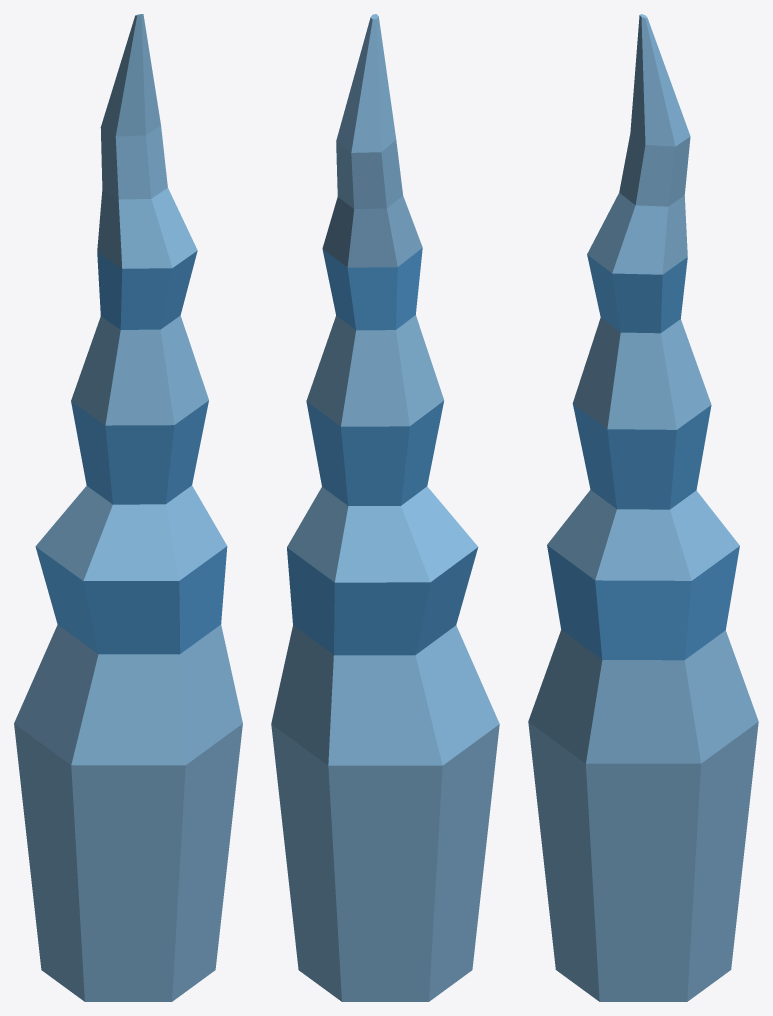
The model's file is eiszapfen.fbx.
3 views of the same model, side by side, from view 1: azimuth 30°, elevation 25°; view 2: azimuth 150°, elevation 25°; view 3: azimuth 270°, elevation 25° (orthographic).
Visible parts, largest first — view 1: Cylinder.001; view 2: Cylinder.001; view 3: Cylinder.001.
Part boxes in pixels (x1,y1,x2,y2): Cylinder.001: [14, 14, 242, 1001]; Cylinder.001: [271, 14, 499, 1001]; Cylinder.001: [528, 14, 758, 1001].
Size of the model in its own units: 202 by 1074 by 234.
